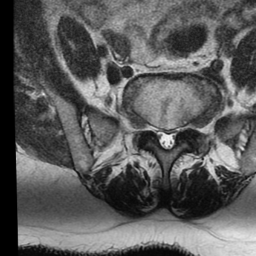CCS_stenosis: (162, 122, 170, 157)
LFS_stenosis: (177, 117, 185, 141)
LLS_normal: (169, 121, 177, 153)
RFS_stenosis: (148, 116, 155, 139)
RLS_normal: (155, 122, 162, 151)
